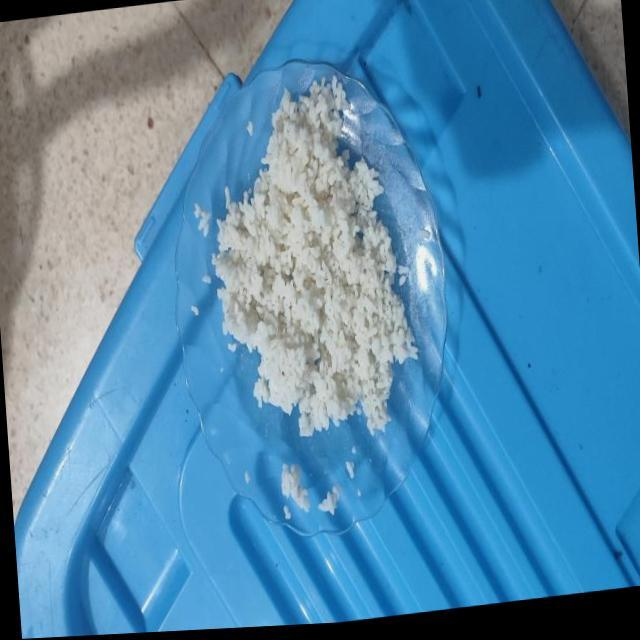nasi_putih: (212, 80, 417, 436)
